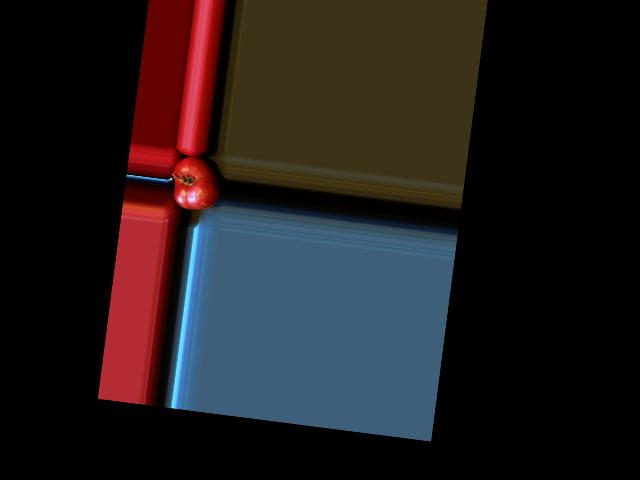tomato: (169, 154, 224, 212)
